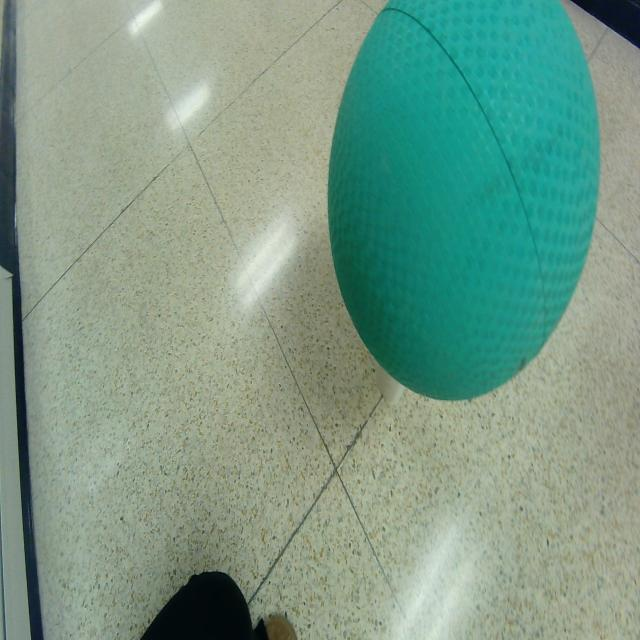algae: (328, 0, 600, 400)
